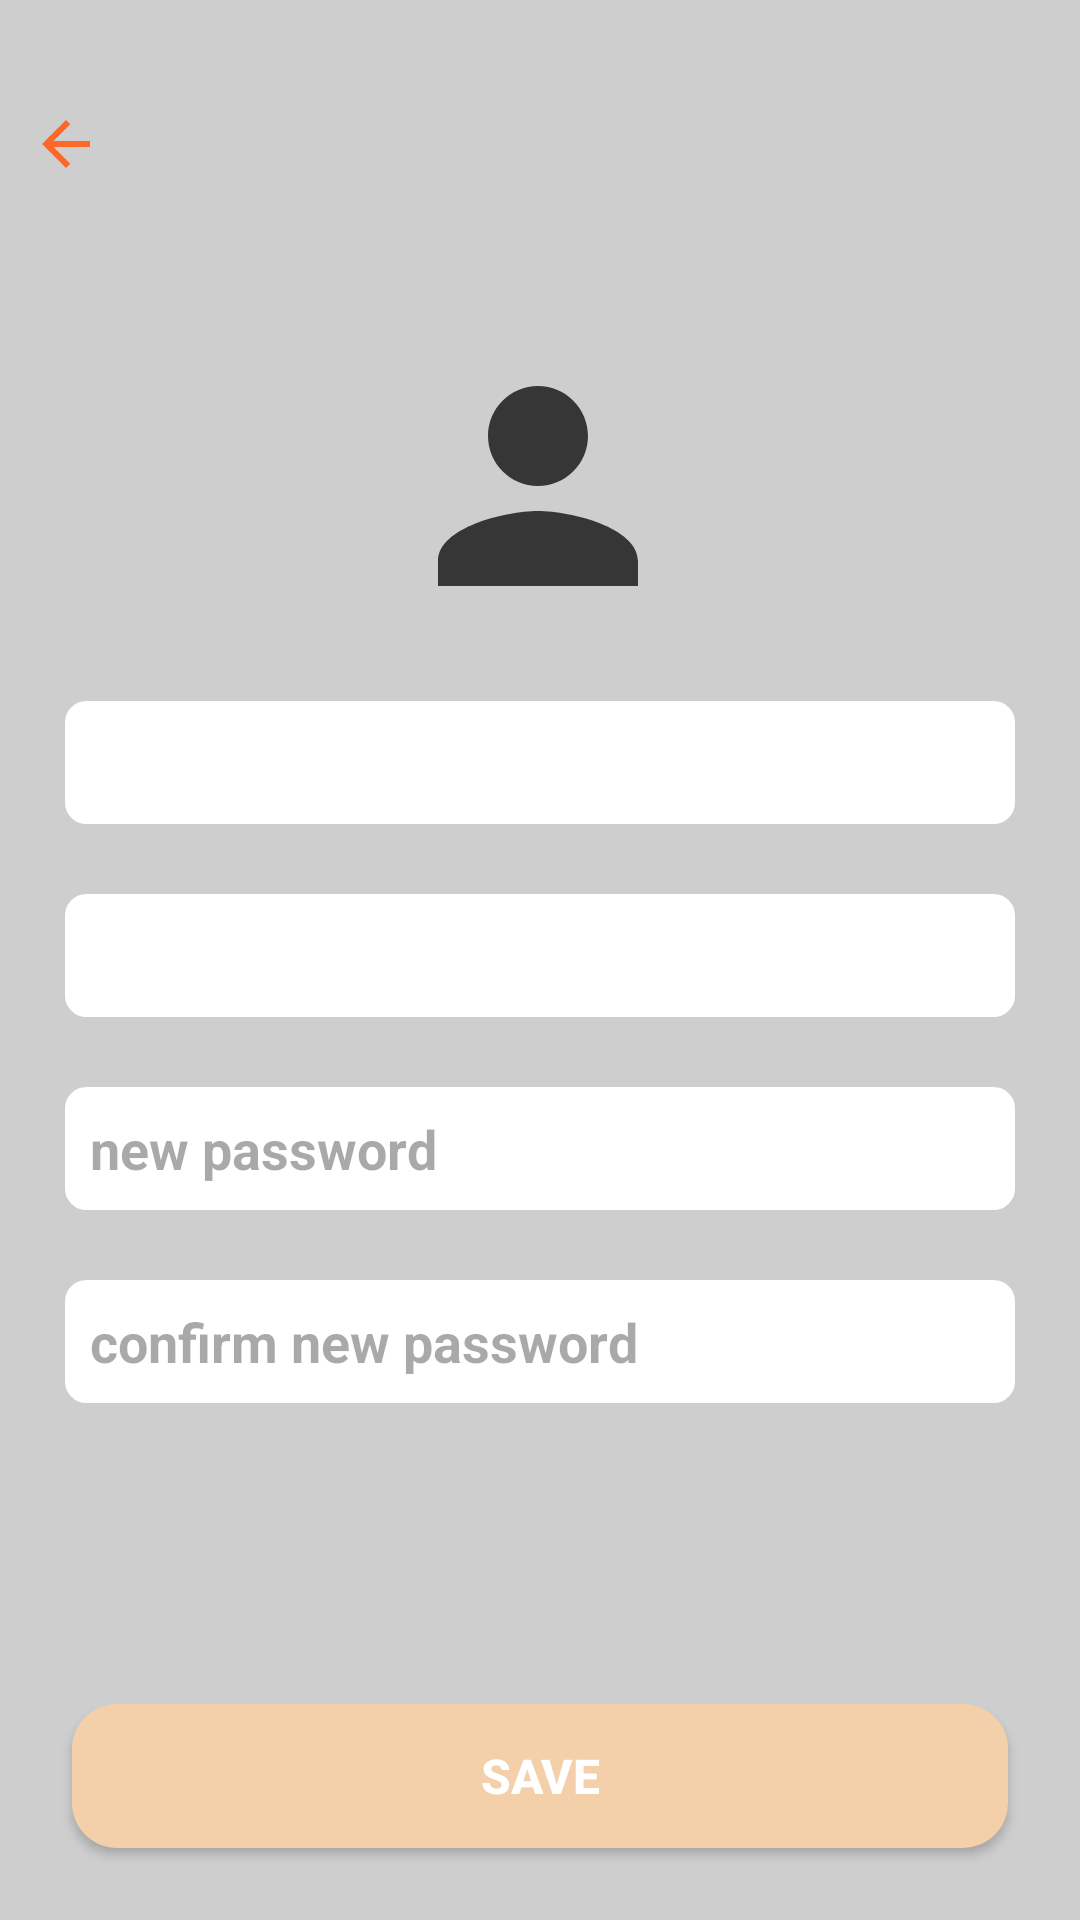

Icons on this 1080×1920 Android screen, each with its box as (x1=x1, y1=y1, x2=x2, y2=y2):
back: (x1=42, y1=120, x2=90, y2=168)
profile bottom: (x1=438, y1=386, x2=638, y2=586)
